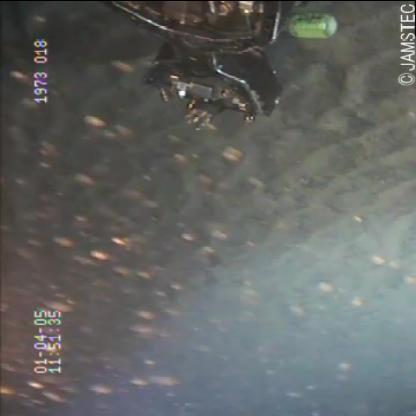Rov: (94, 1, 294, 133)
Rác: (284, 9, 340, 42)
